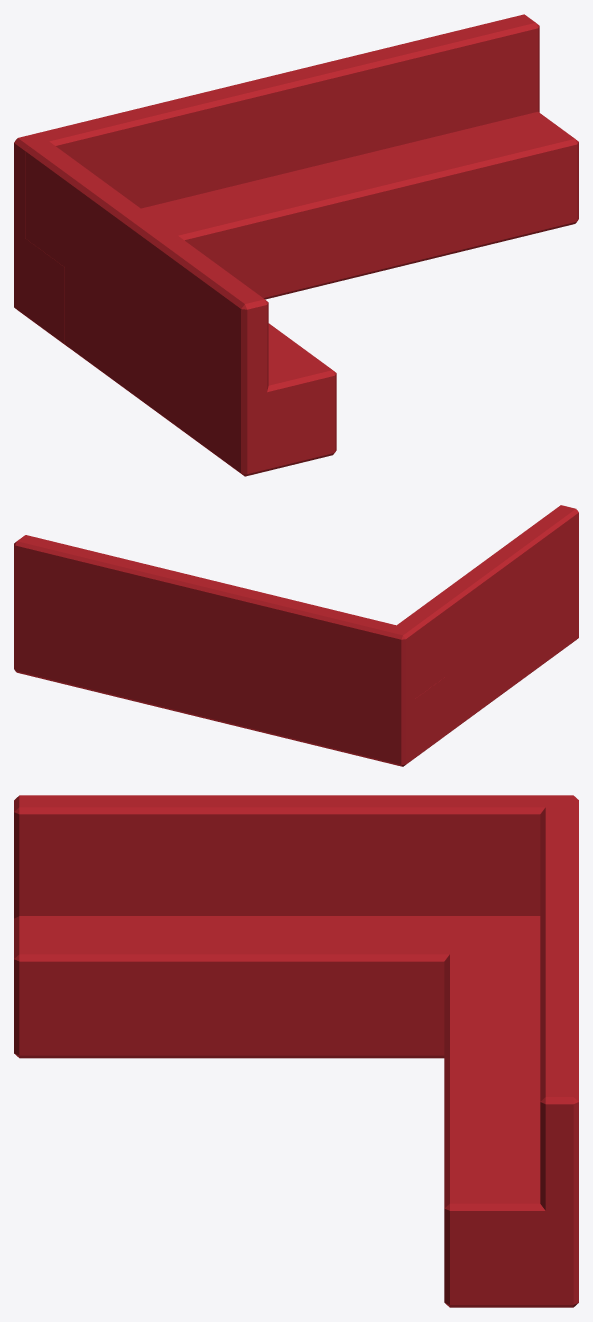
Rendered from Couch.fbx.
3 views of the same model, one above another, from view 1: azimuth 30°, elevation 25°; view 2: azimuth 150°, elevation 25°; view 3: azimuth 270°, elevation 25° (orthographic). The views are drawn at different scales.
Visible parts, largest first — view 1: Cube.001, Cube; view 2: Cube.001, Cube; view 3: Cube, Cube.001.
Boxes of the visible parts, left/top/right/bottom form: Cube.001: left=14, top=14, right=578, bottom=346; Cube: left=18, top=137, right=336, bottom=476; Cube.001: left=14, top=535, right=444, bottom=766; Cube: left=389, top=505, right=578, bottom=736; Cube: left=14, top=795, right=573, bottom=1058; Cube.001: left=444, top=795, right=578, bottom=1307.
Size of the model in its own units: 1247 by 400 by 972.
